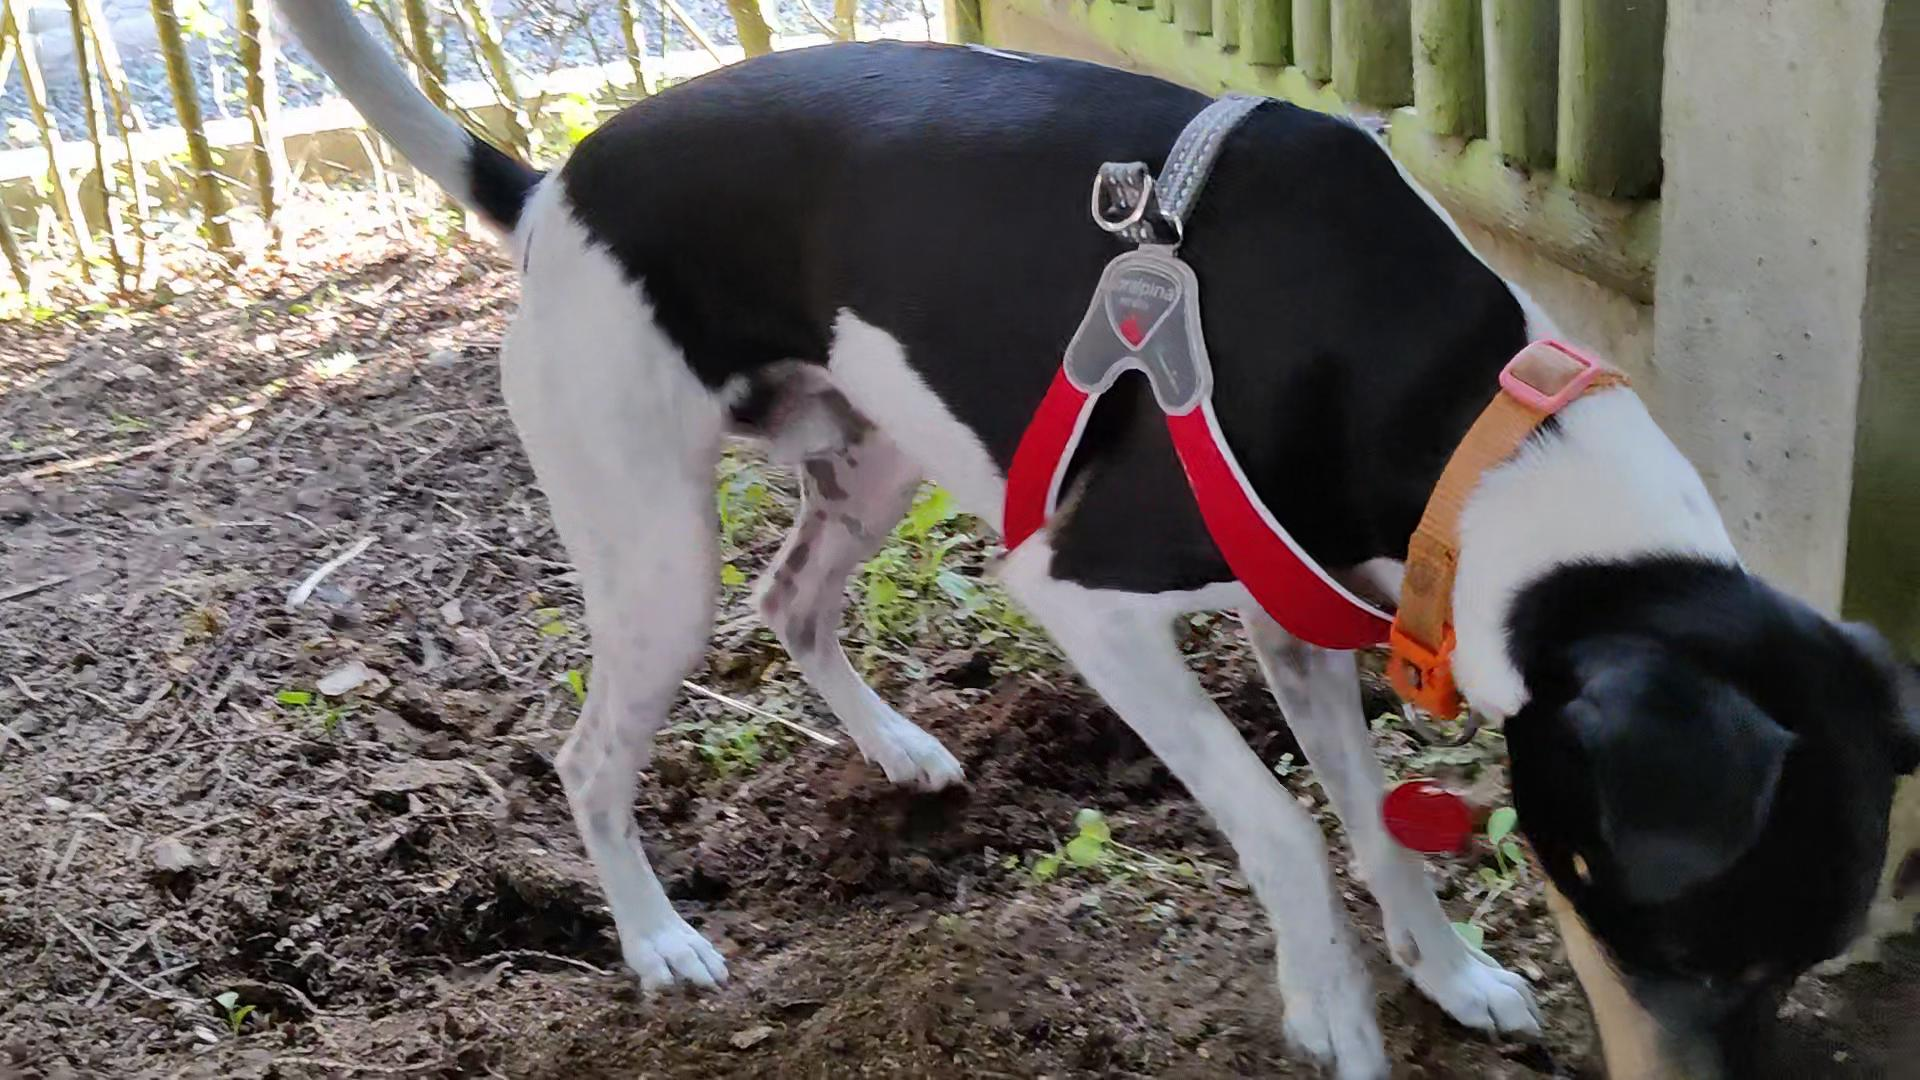Dog: (268, 0, 1919, 1079)
